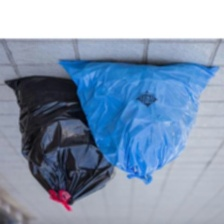plastic_bag: (51, 57, 224, 187), (1, 73, 118, 213)
